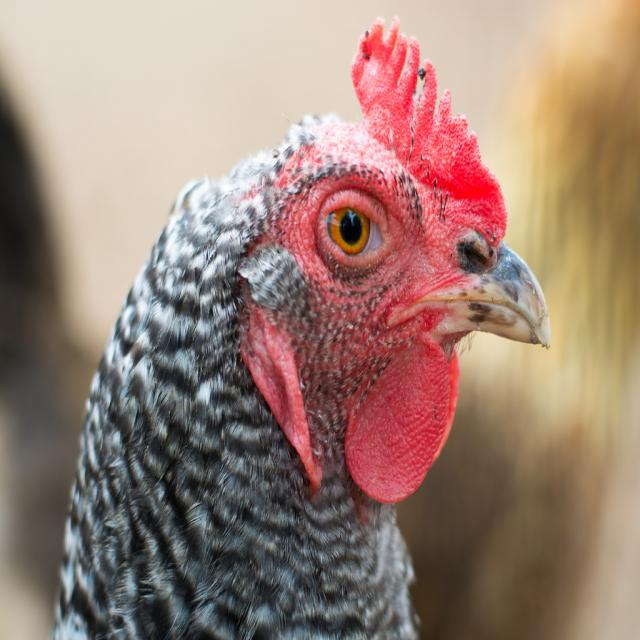Chicken: (24, 27, 553, 640)
